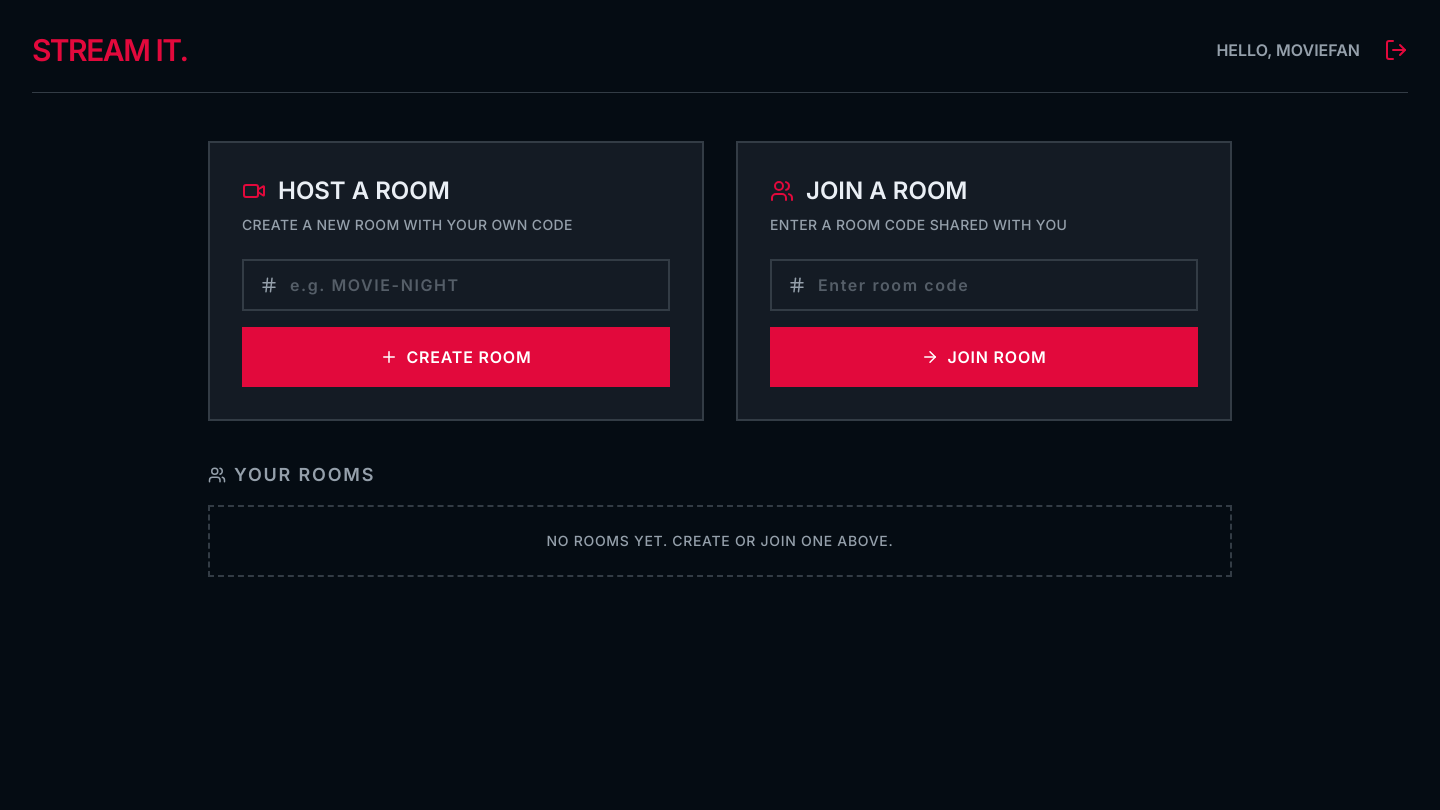
it: Home Component › displays error message when joining a non-existent room
Type "INVALID-ROOM" into the field with placeholder "Enter room code". click: (999, 285)
box: [818, 273, 1180, 297]
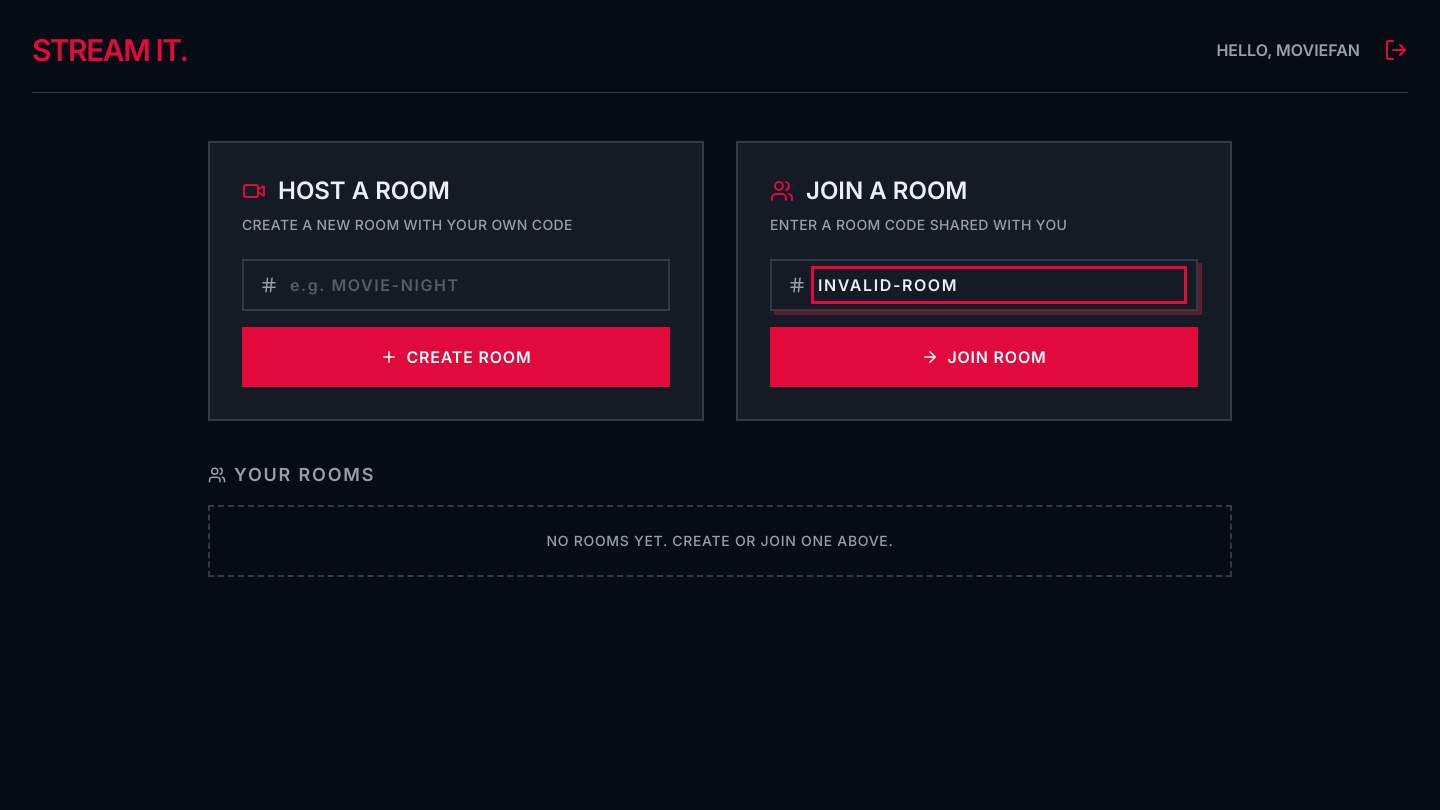
Click the button "Join Room". click: (984, 357)
box: [770, 327, 1198, 387]
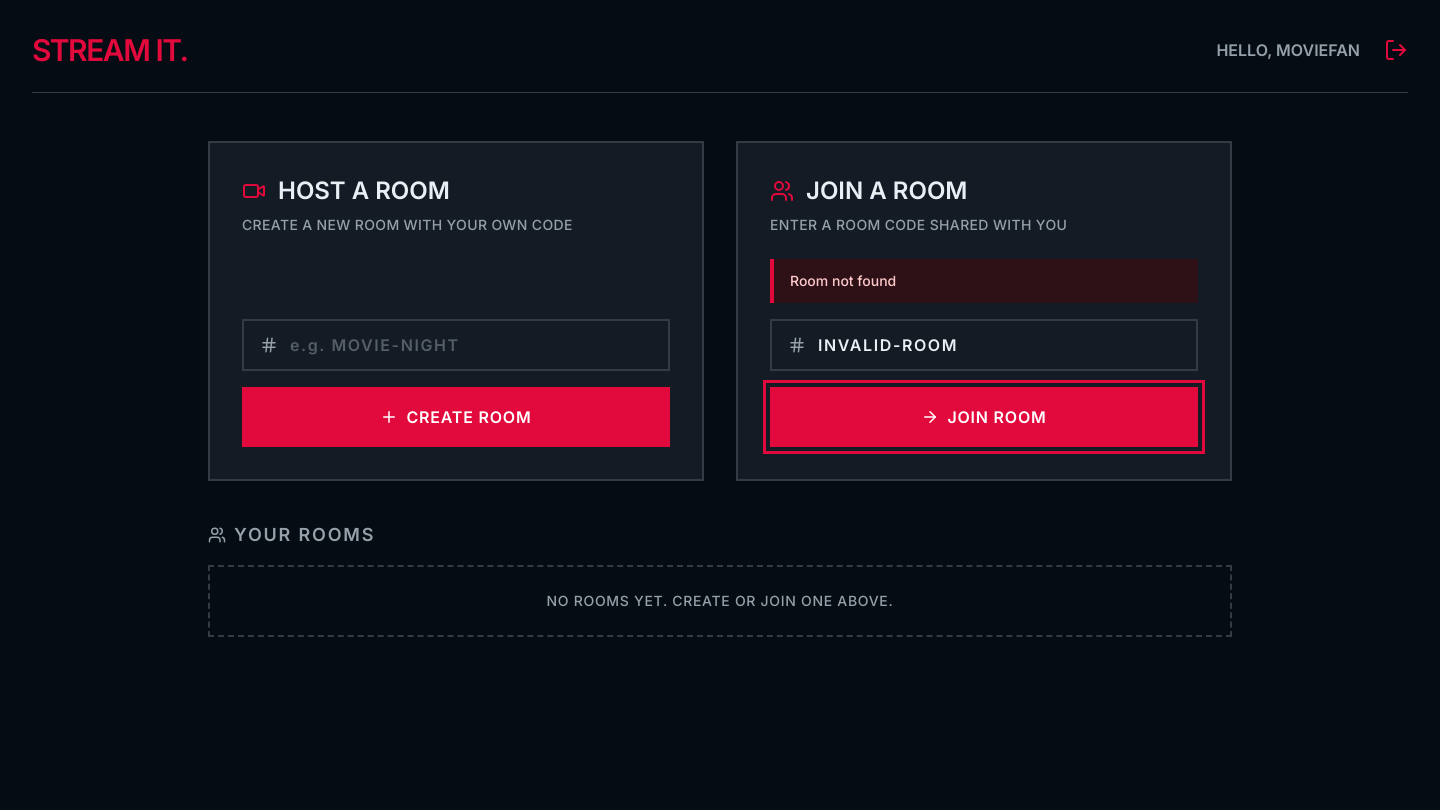
Result: the text "Room not found" is shown at [770, 259, 1198, 303]
